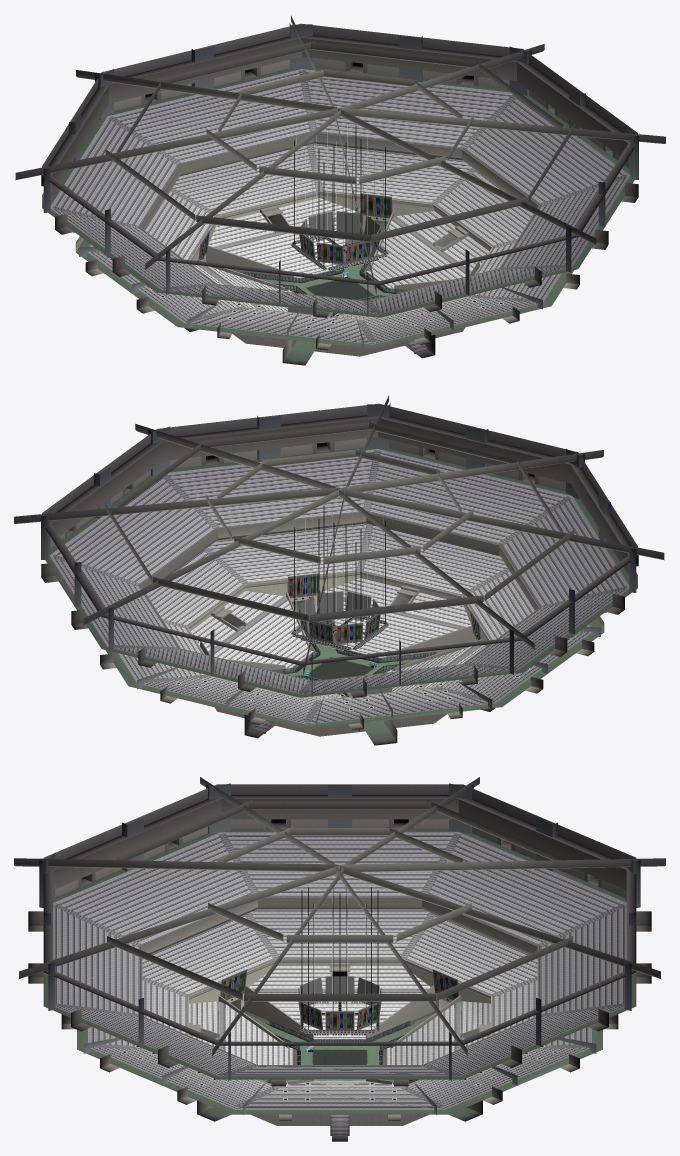
File: box_ring__box_hall.glb
The picture shows the model from 3 angles, top to bottom: view 1: azimuth 30°, elevation 25°; view 2: azimuth 150°, elevation 25°; view 3: azimuth 270°, elevation 25°; orthographic projection. The views are drawn at different scales.
Parts seen in each view (by area): view 1: polygon32, polygon15, polygon372, polygon37, polygon35, polygon453, polygon393, polygon0; view 2: polygon32, polygon15, polygon372, polygon37, polygon35, polygon453, polygon393, polygon0; view 3: polygon32, polygon15, polygon372, polygon37, polygon35, polygon453, polygon393, polygon0.
Part boxes in pixels (box(x1,y1,x2,y2)): polygon32: box(50, 69, 630, 344); polygon15: box(41, 23, 638, 362); polygon372: box(15, 15, 665, 295); polygon37: box(42, 67, 634, 365); polygon35: box(53, 70, 626, 353); polygon453: box(291, 125, 388, 270); polygon393: box(199, 196, 390, 261); polygon0: box(243, 252, 408, 316); polygon32: box(49, 449, 629, 724); polygon15: box(41, 403, 638, 742); polygon372: box(14, 395, 664, 675); polygon37: box(45, 447, 637, 745); polygon35: box(53, 450, 626, 733); polygon453: box(291, 505, 388, 650); polygon393: box(289, 576, 480, 641); polygon0: box(271, 632, 436, 696); polygon32: box(53, 832, 626, 1109); polygon15: box(28, 783, 651, 1120); polygon372: box(14, 777, 665, 1055); polygon37: box(43, 829, 636, 1141); polygon35: box(53, 833, 626, 1135); polygon453: box(300, 887, 379, 1033); polygon393: box(222, 972, 457, 1027); polygon0: box(265, 1020, 414, 1083).
Bounding box in the file's own units: 880 × 297 × 880.
13 materials, 13 textured.
